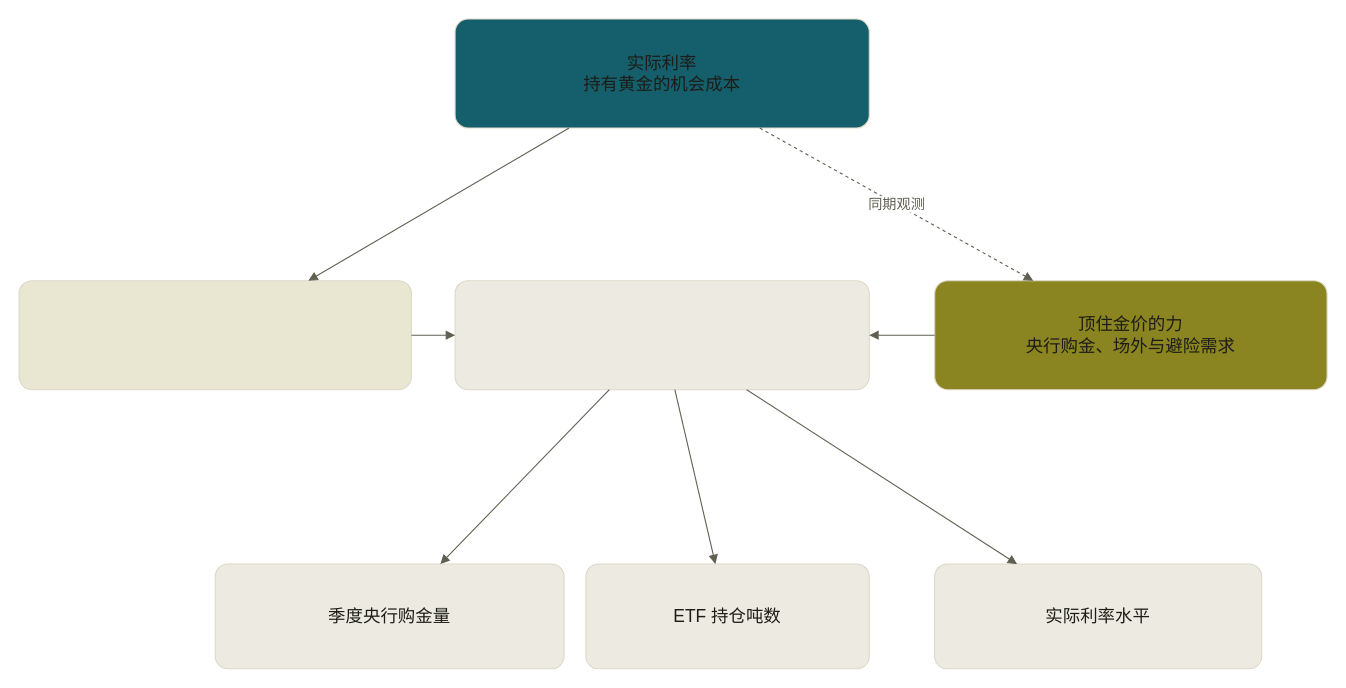
Image size: 1346x688. Some labels were removed from this diagram. Here are the shapes that lost their labels. From the top down, the box of each, then its label:
(18, 280, 411, 390): 压制金价的力 无息资产，利率越高越贵
(454, 280, 869, 390): 两力对冲 谁赢取决于当期哪条更强
